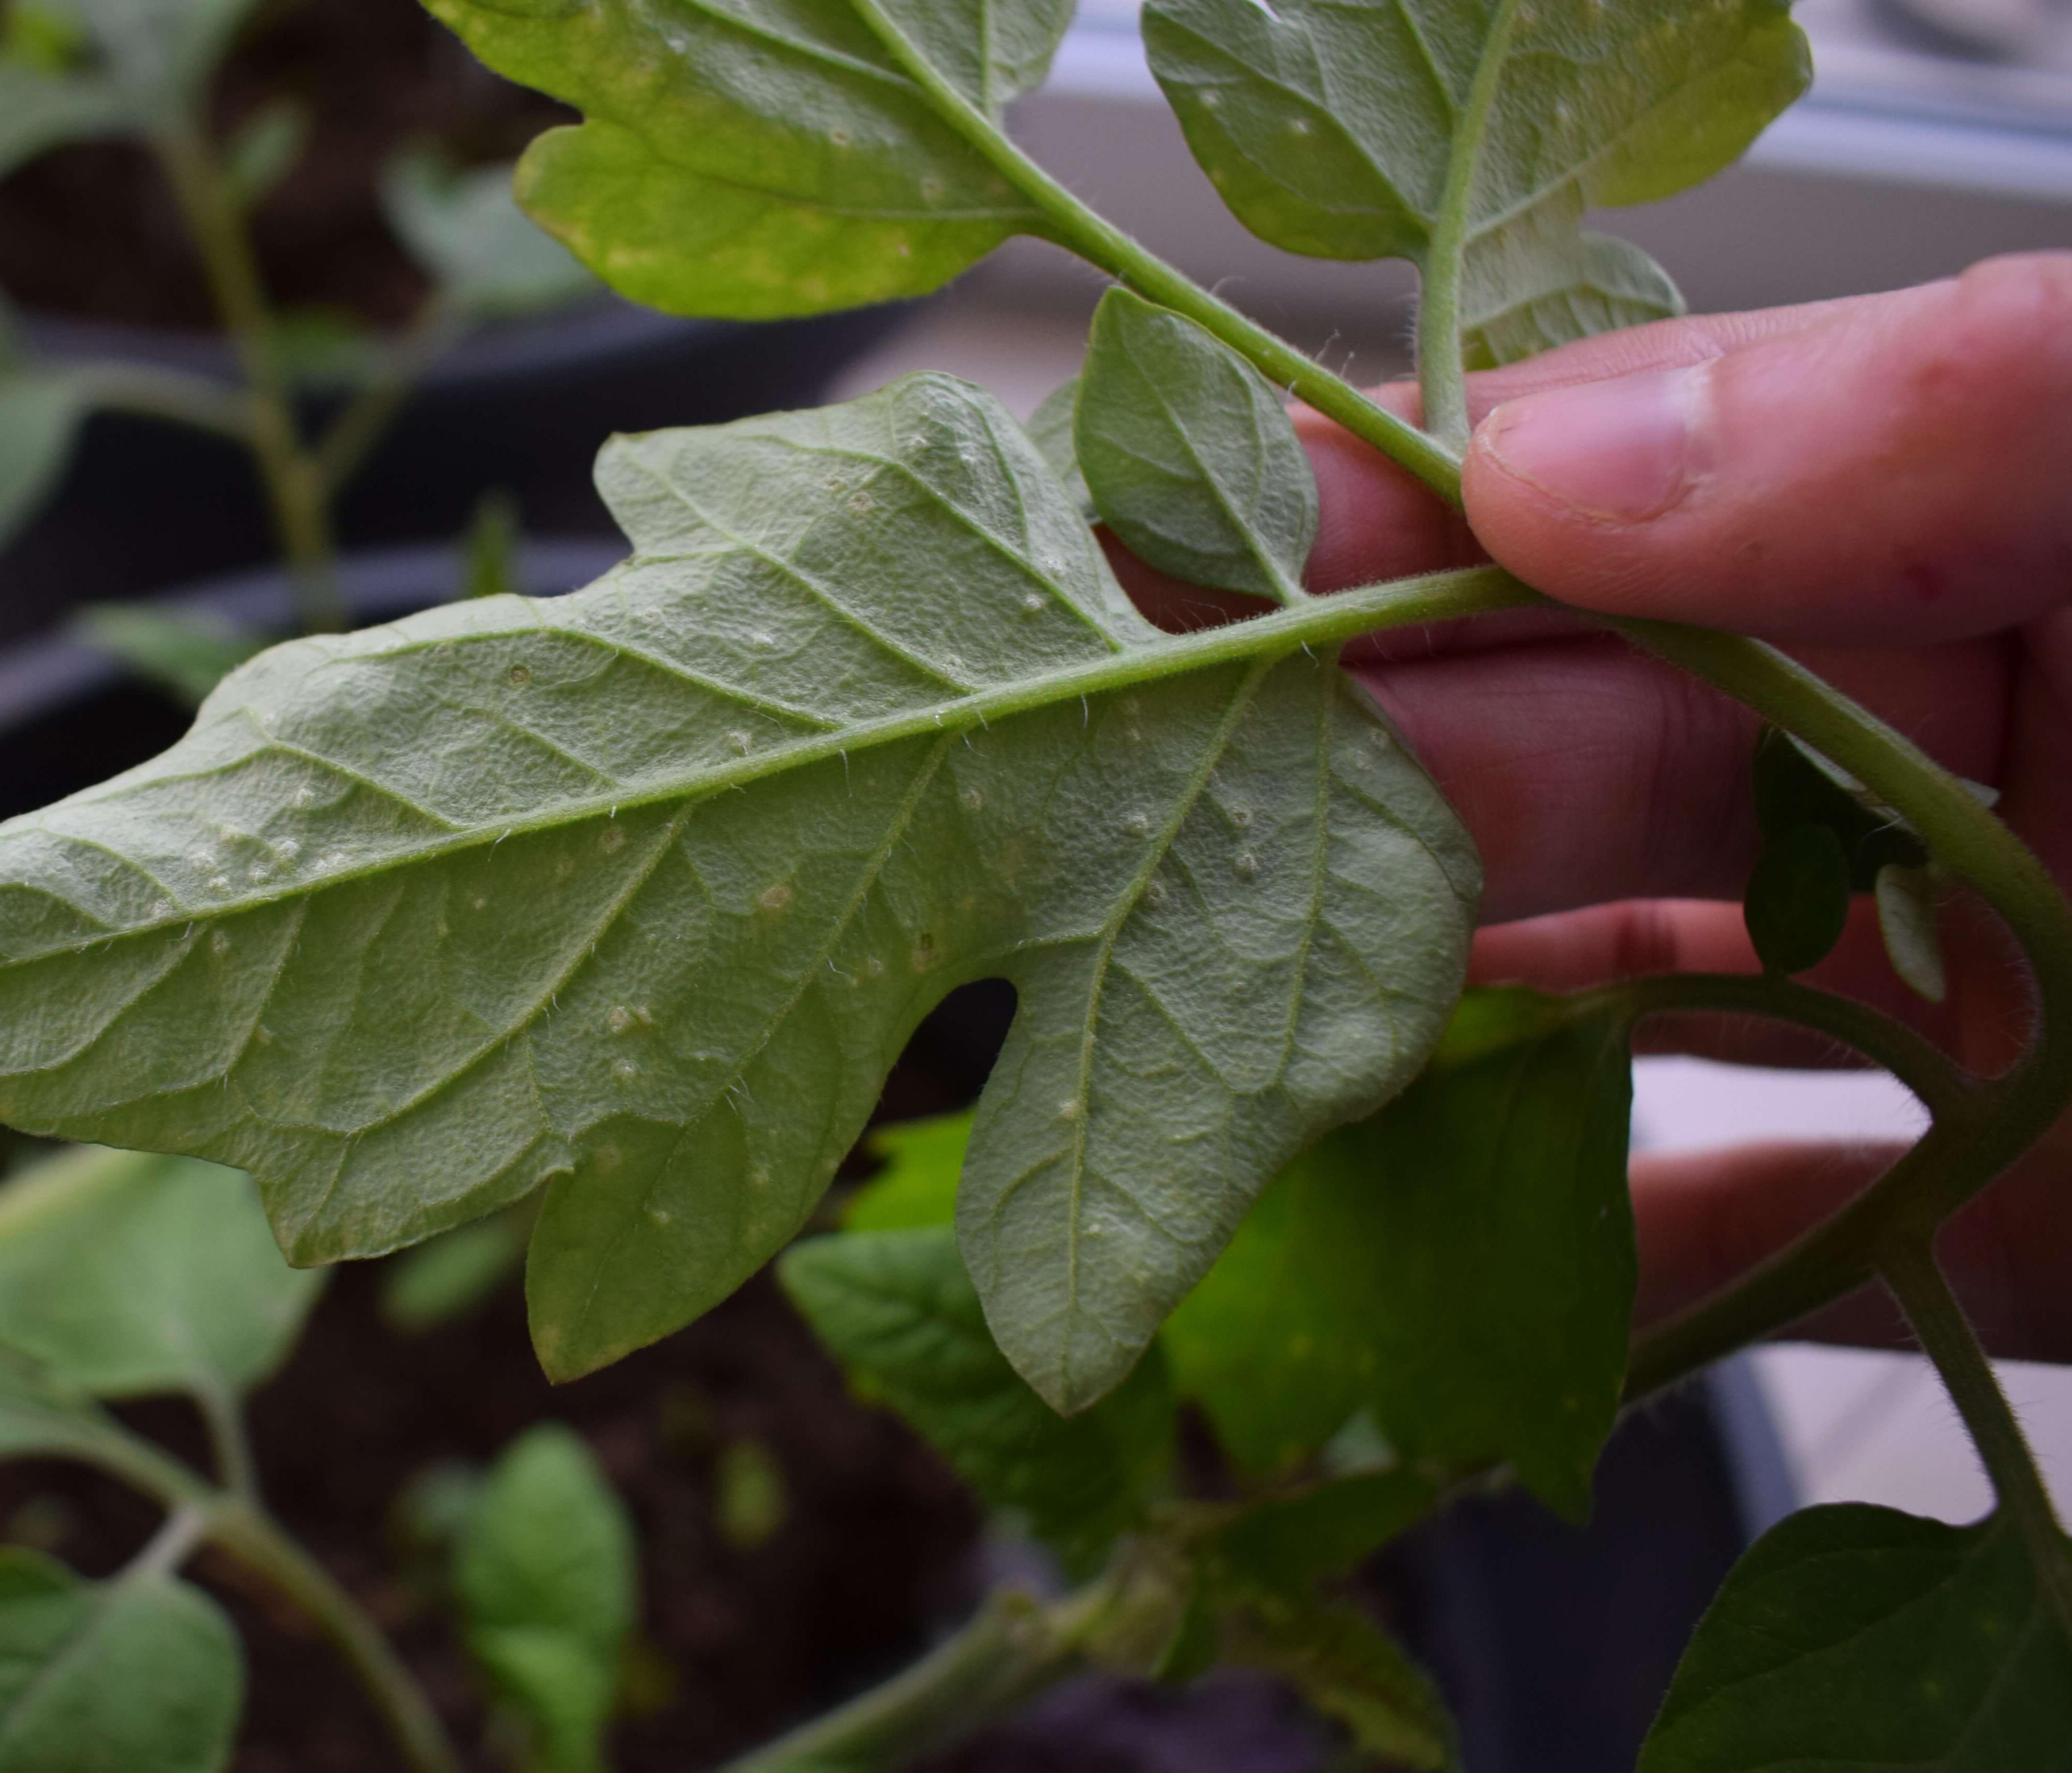Tomato mold leaf: (0, 385, 1431, 1415), (282, 0, 1079, 336), (1118, 0, 1909, 213), (0, 1537, 289, 1773)
